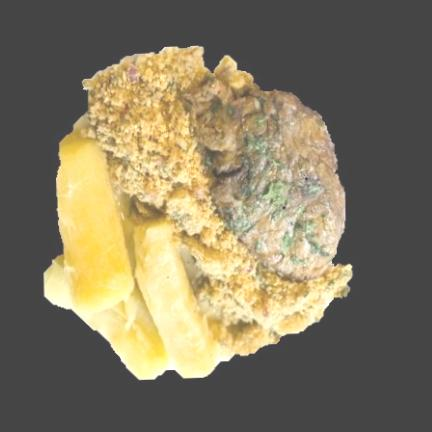cassava: (43, 138, 221, 381)
meat: (204, 72, 345, 276)
